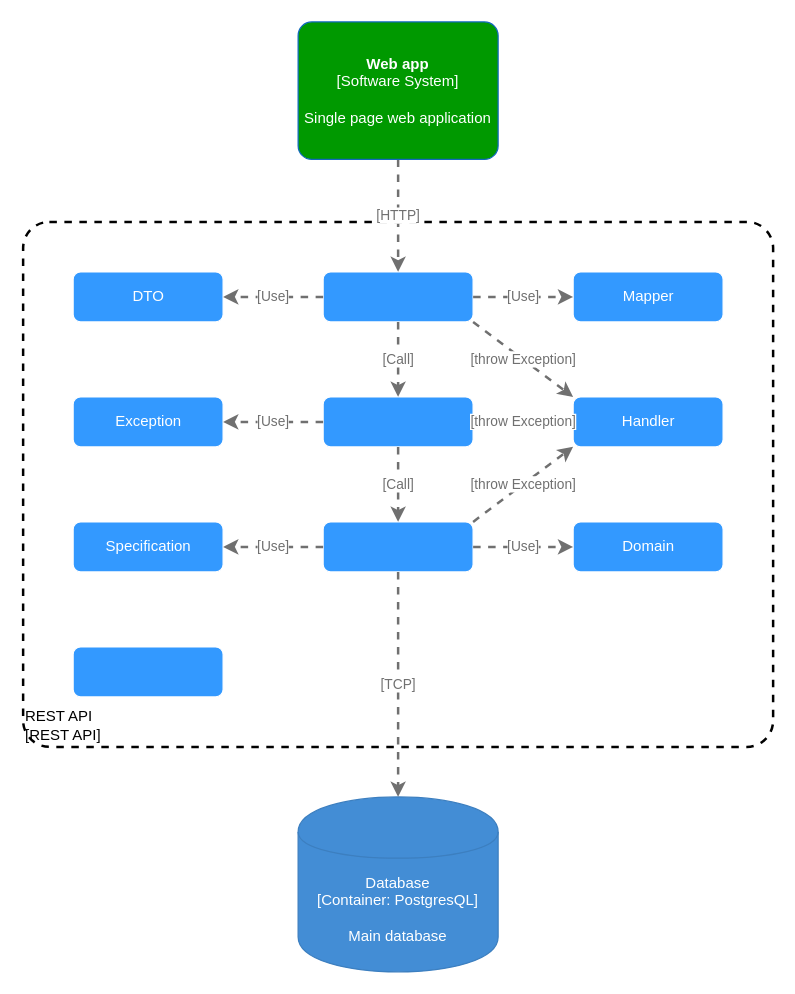
Image size: 795x994. Some labels were removed from this diagram. The shapes that lost their labels are listed below. From the top down, each one's centre as x and y in pixels, then its label:
At point (397, 296): "Controller".
At point (397, 421): "Service".
At point (397, 546): "Repository".
At point (147, 671): "Bootstrap app".
